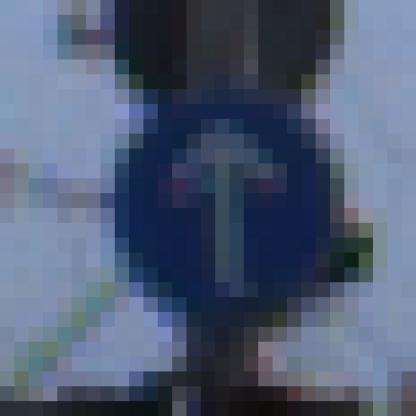AheadOnly: (87, 75, 345, 343)
